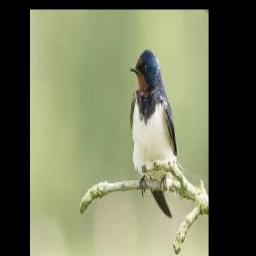Swallow: (129, 50, 176, 218)
